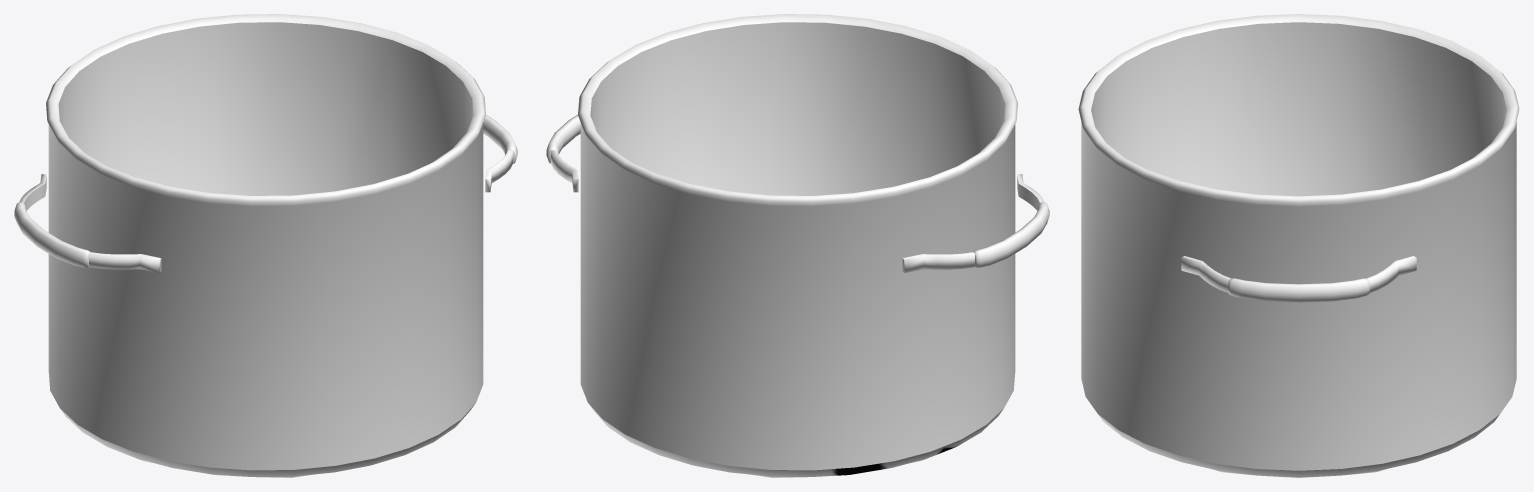
Rendered from ServicePot.fbx.
3 views of the same model, side by side, from view 1: azimuth 30°, elevation 25°; view 2: azimuth 150°, elevation 25°; view 3: azimuth 270°, elevation 25° (orthographic).
Parts seen in each view (by area): view 1: SM_Pot_01_Coockware_0.001; view 2: SM_Pot_01_Coockware_0.001; view 3: SM_Pot_01_Coockware_0.001.
Part boxes in pixels (box(x1,y1,x2,y2)): SM_Pot_01_Coockware_0.001: box(14, 14, 517, 477); SM_Pot_01_Coockware_0.001: box(546, 14, 1049, 477); SM_Pot_01_Coockware_0.001: box(1078, 14, 1519, 477).
Bounding box in the file's own units: 3213 × 1918 × 2657.
